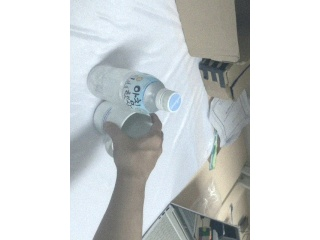bottle: (86, 64, 182, 114)
box: (172, 1, 240, 62), (200, 59, 250, 100)
cup: (93, 100, 152, 157)
